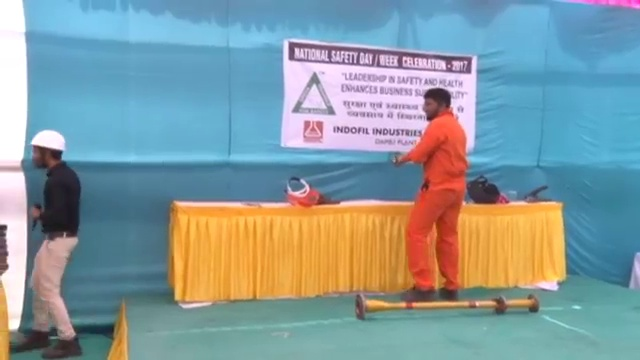helmet: (29, 127, 68, 153)
helmet_off: (421, 88, 451, 120)
helmet_on: (27, 129, 69, 169)
person: (15, 128, 80, 359), (403, 87, 467, 303)
